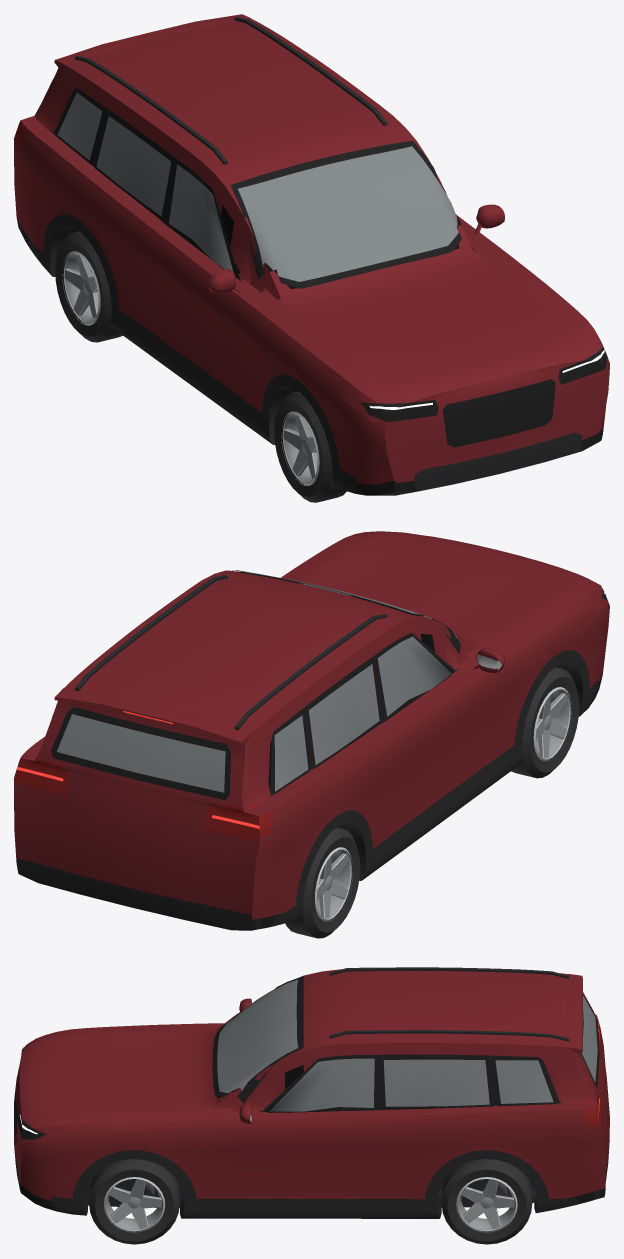
The model's file is traffic-suv.glb.
3 views of the same model, one above another, from view 1: azimuth 30°, elevation 25°; view 2: azimuth 150°, elevation 25°; view 3: azimuth 270°, elevation 25° (orthographic). The views are drawn at different scales.
Parts seen in each view (by area): view 1: body, glass_windshield, glass_side_R, wheel_FR_mesh, wheel_RR_mesh, roof_rails, spoiler; view 2: body, glass_side_R, glass_rear, wheel_RR_mesh, wheel_FR_mesh, spoiler, roof_rails, glass_windshield, mirror_R; view 3: body, glass_side_L, glass_windshield, wheel_FL_mesh, wheel_RL_mesh, roof_rails, spoiler, glass_rear.
Boxes of the visible parts, <box> form: body: <box>14,19,609,495</box>; glass_windshield: <box>230,140,461,288</box>; glass_side_R: <box>53,88,241,282</box>; wheel_FR_mesh: <box>274,391,346,502</box>; wheel_RR_mesh: <box>55,231,122,342</box>; roof_rails: <box>75,17,387,164</box>; spoiler: <box>54,14,251,67</box>; body: <box>14,531,609,930</box>; glass_side_R: <box>270,632,459,795</box>; glass_rear: <box>51,707,230,800</box>; wheel_RR_mesh: <box>285,827,360,938</box>; wheel_FR_mesh: <box>511,667,579,778</box>; spoiler: <box>54,688,251,745</box>; roof_rails: <box>75,575,387,730</box>; glass_windshield: <box>232,570,460,653</box>; mirror_R: <box>474,648,504,672</box>; body: <box>14,969,609,1218</box>; glass_side_L: <box>257,1054,561,1112</box>; glass_windshield: <box>212,976,303,1103</box>; wheel_FL_mesh: <box>89,1159,179,1244</box>; wheel_RL_mesh: <box>441,1159,532,1244</box>; roof_rails: <box>329,967,569,1041</box>; spoiler: <box>564,974,582,1053</box>; glass_rear: <box>580,994,599,1087</box>.
Bounding box in the file's own units: 2.14 × 1.7 × 4.65.
